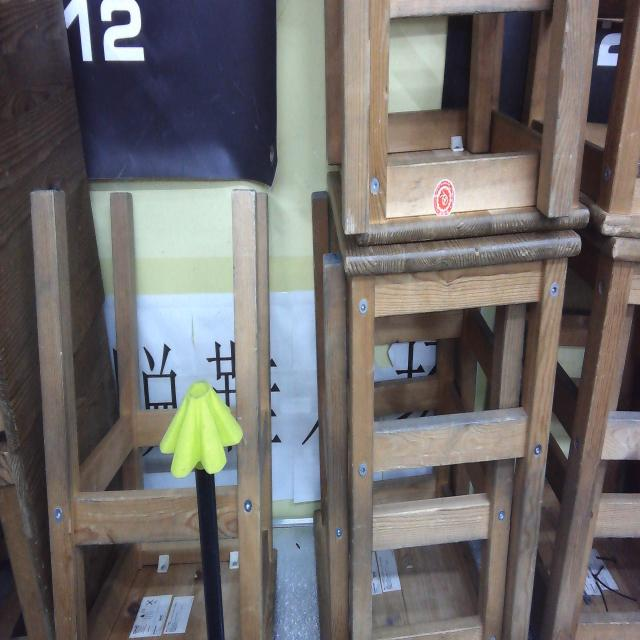Yellow-Stake-Head: (159, 381, 243, 479)
